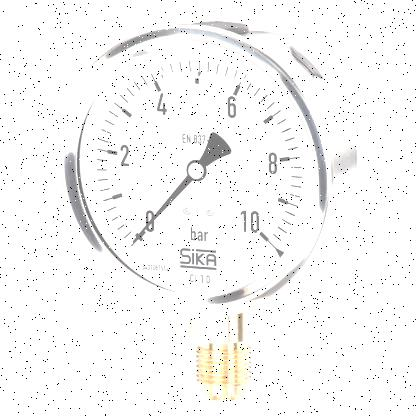needle: (132, 175, 193, 244)
